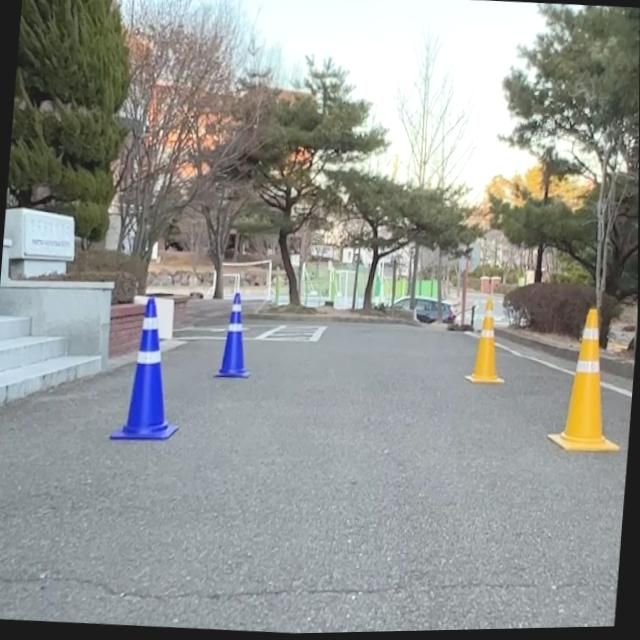b_rub: (110, 298, 177, 441), (214, 293, 250, 378)
y_rub: (550, 311, 621, 454), (466, 301, 506, 386)
